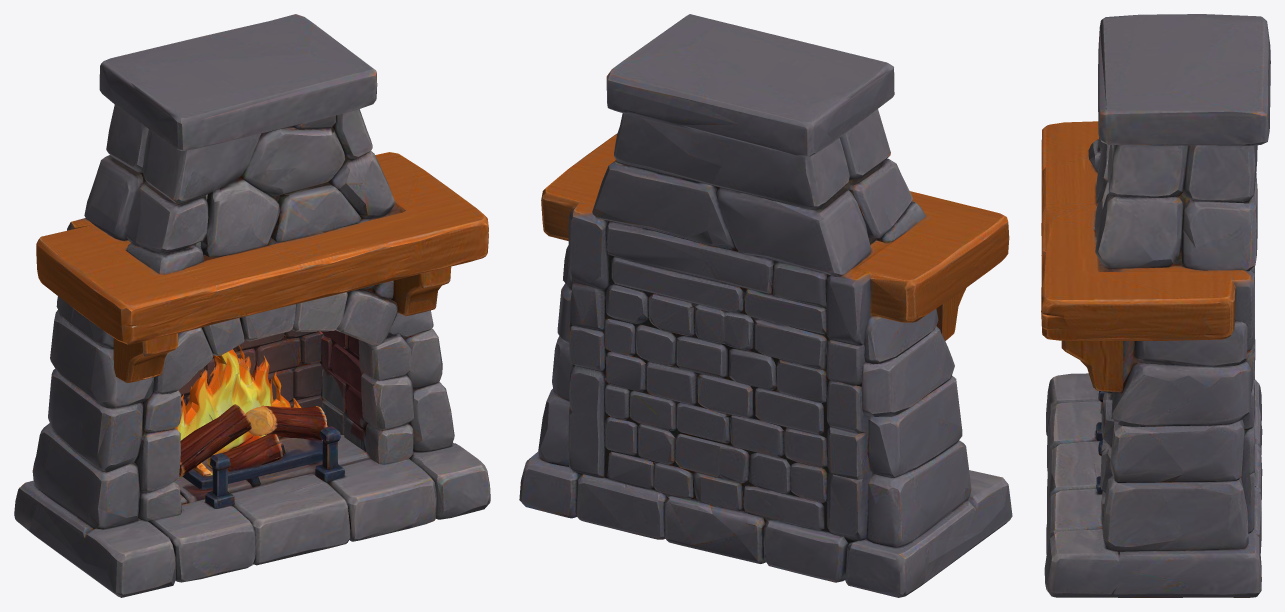
Rendered from p_heat.glb.
The picture shows the model from 3 angles, left to right: view 1: azimuth 30°, elevation 25°; view 2: azimuth 150°, elevation 25°; view 3: azimuth 270°, elevation 25°; orthographic projection. The views are drawn at different scales.
Bounding box in the file's own units: 1.7 × 1.9 × 0.8884.
1 material, 1 textured.
